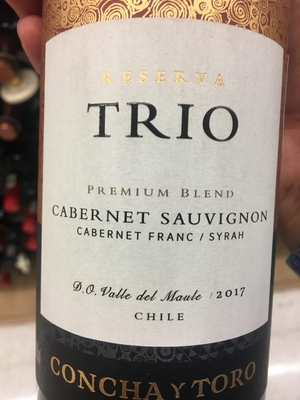trio cabernet sauvignon: (31, 2, 293, 400)
